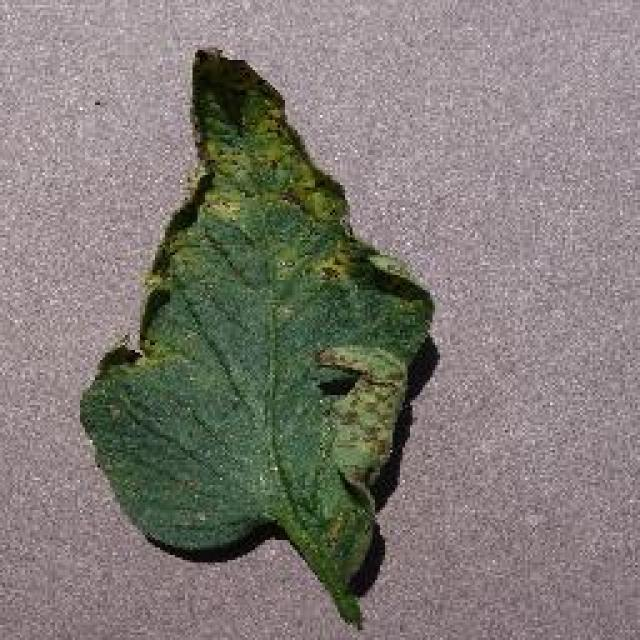Tomato___Septoria_leaf_spot: (80, 50, 430, 622)
